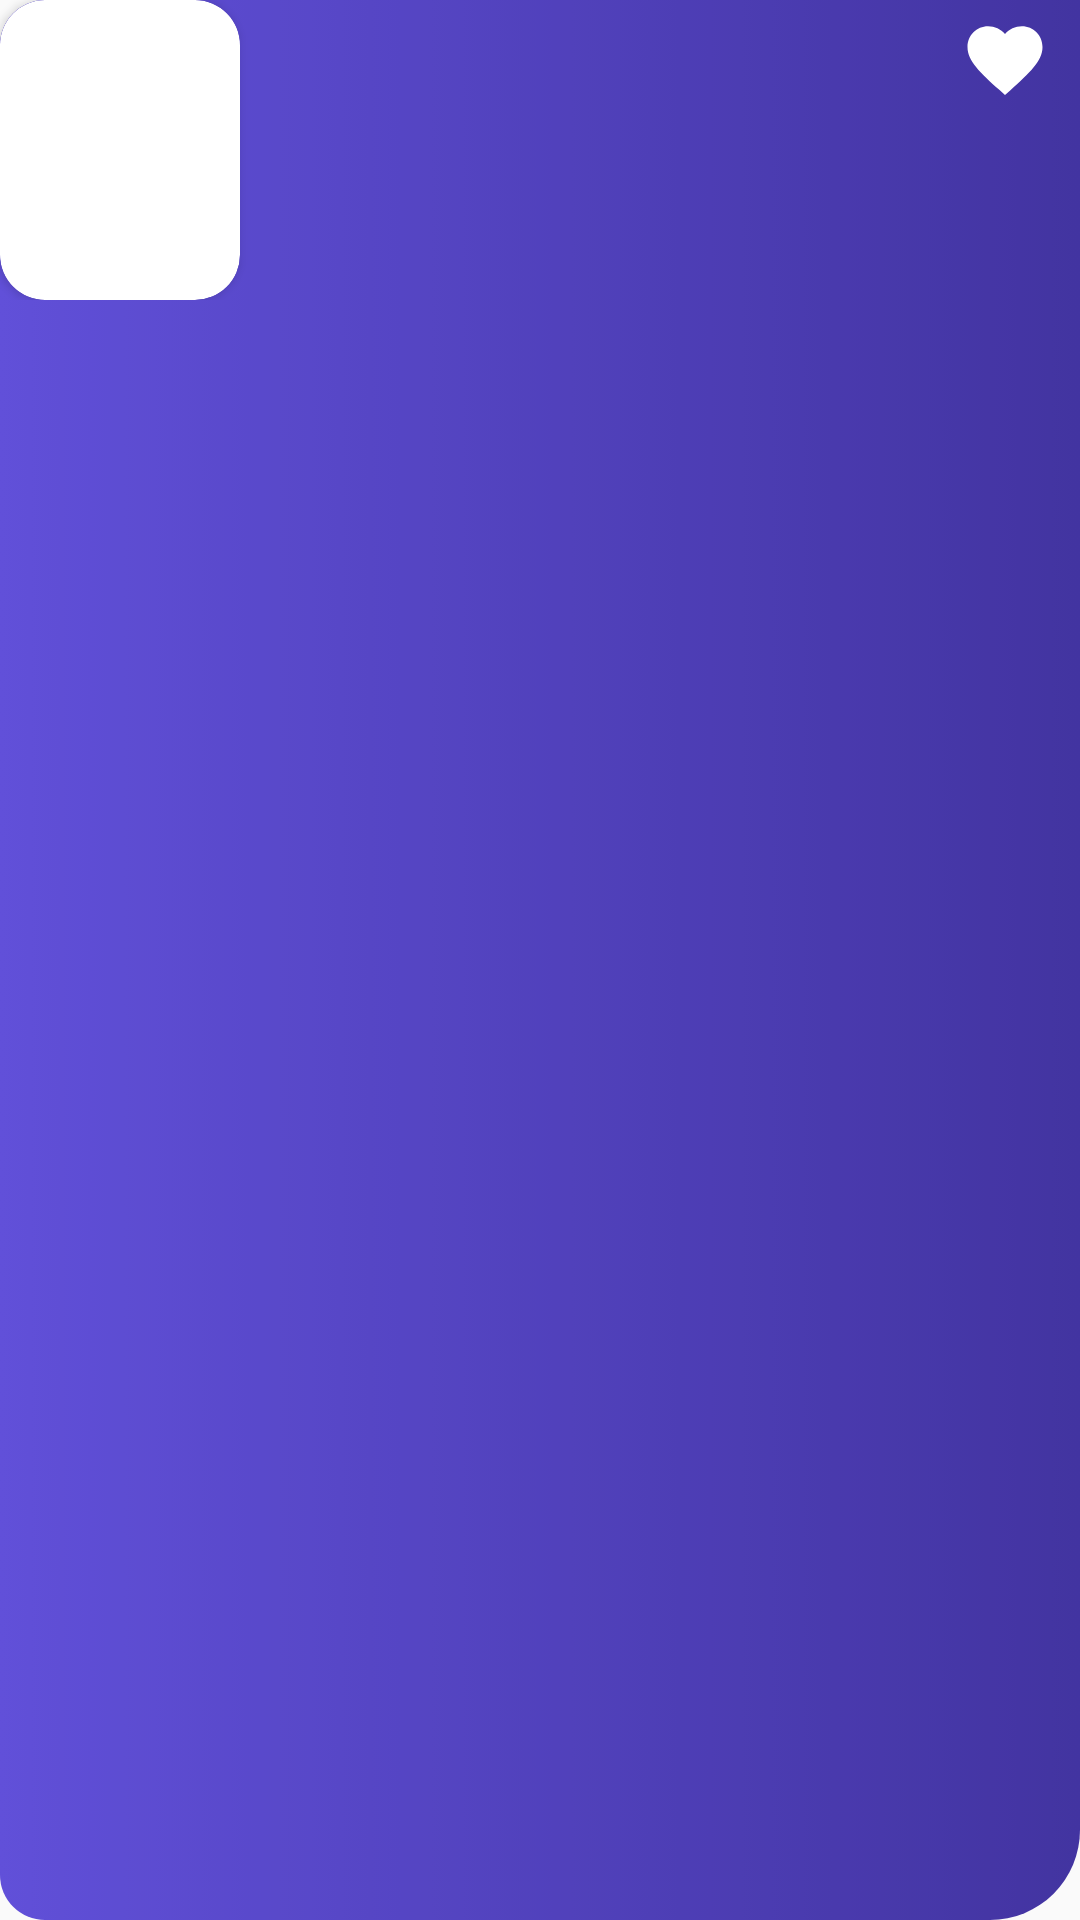

Locate icon controls on the screen. Image size 1080w x 1920h, boxes as (x1, y1, x2, y2).
favorite: (967, 26, 1043, 95)
